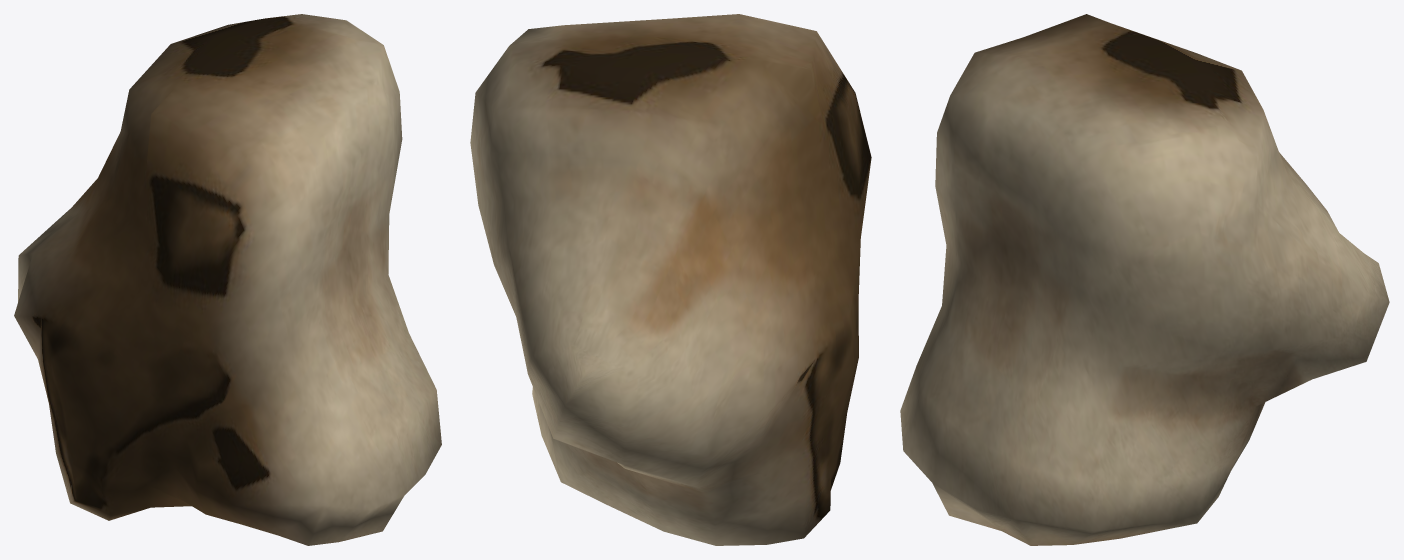
File: Tarsal_IV.glb
3 renders of one model, left to right at view 1: azimuth 30°, elevation 25°; view 2: azimuth 150°, elevation 25°; view 3: azimuth 270°, elevation 25°, orthographic. The views are drawn at different scales.
Visible parts, largest first — view 1: Tarsal_IV_Left1:Group59142; view 2: Tarsal_IV_Left1:Group59142; view 3: Tarsal_IV_Left1:Group59142.
Boxes of the visible parts, left/top/right/bottom form: Tarsal_IV_Left1:Group59142: left=14, top=14, right=441, bottom=545; Tarsal_IV_Left1:Group59142: left=470, top=14, right=871, bottom=545; Tarsal_IV_Left1:Group59142: left=900, top=14, right=1389, bottom=545.
Size of the model in its own units: 13.49 by 16.73 by 16.32.
1 material, 1 textured.
